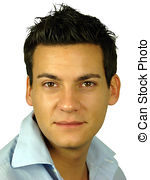face: (16, 15, 120, 156)
